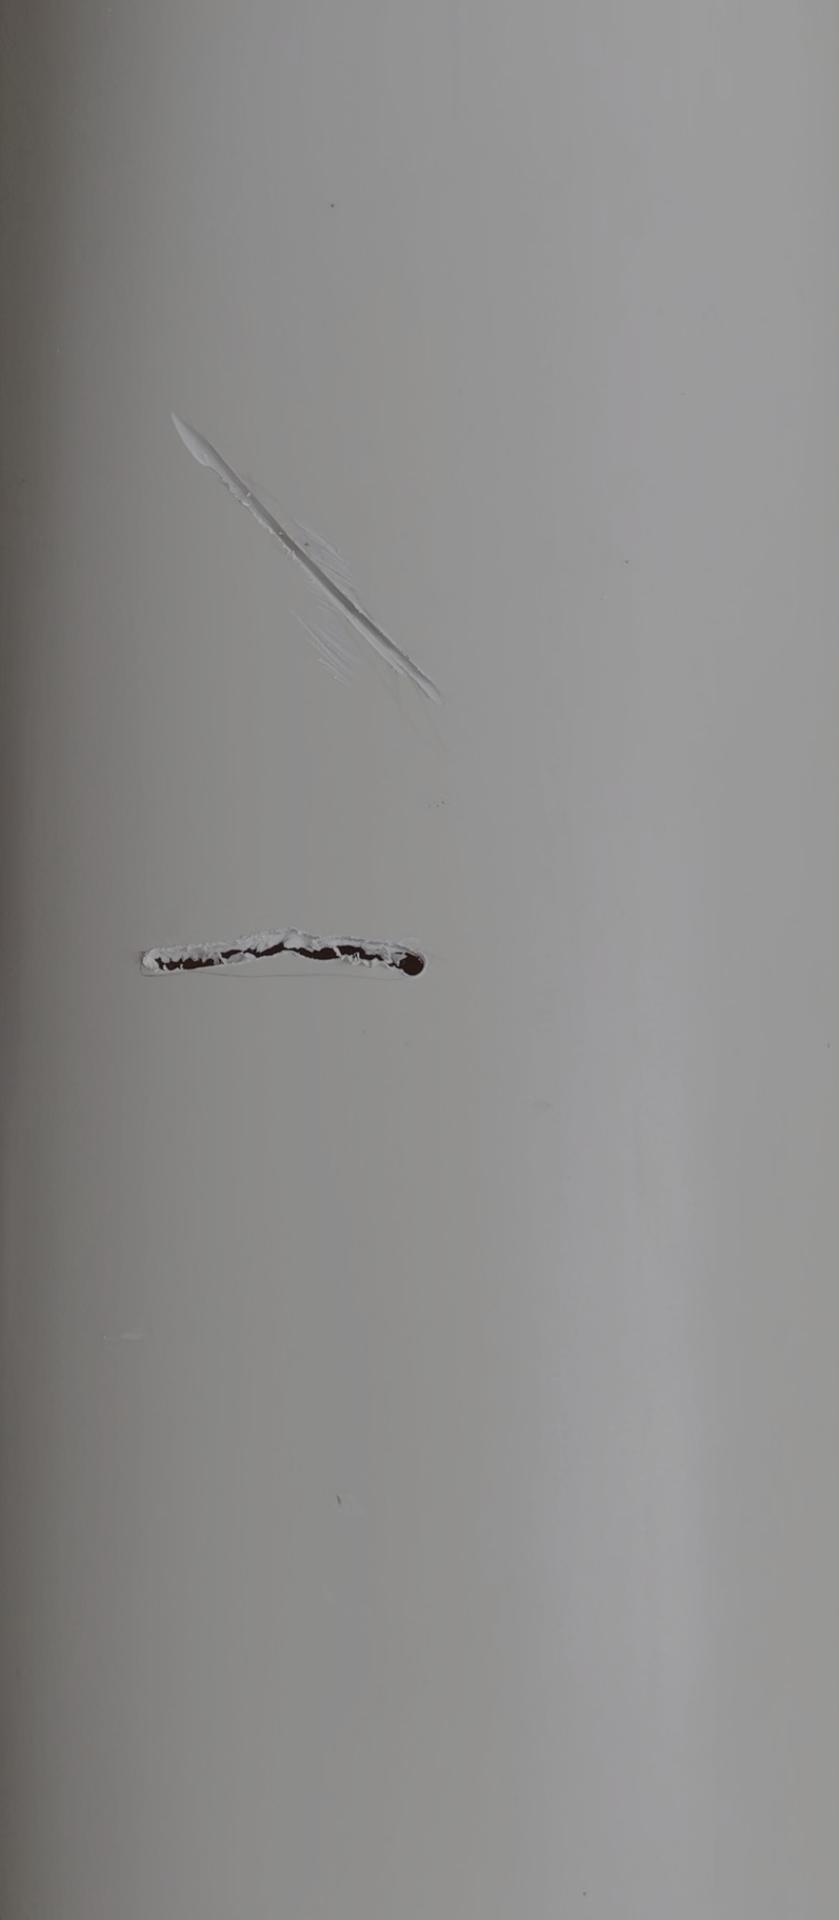fengxi: (137, 931, 453, 992)
sunshang: (151, 397, 448, 708)
